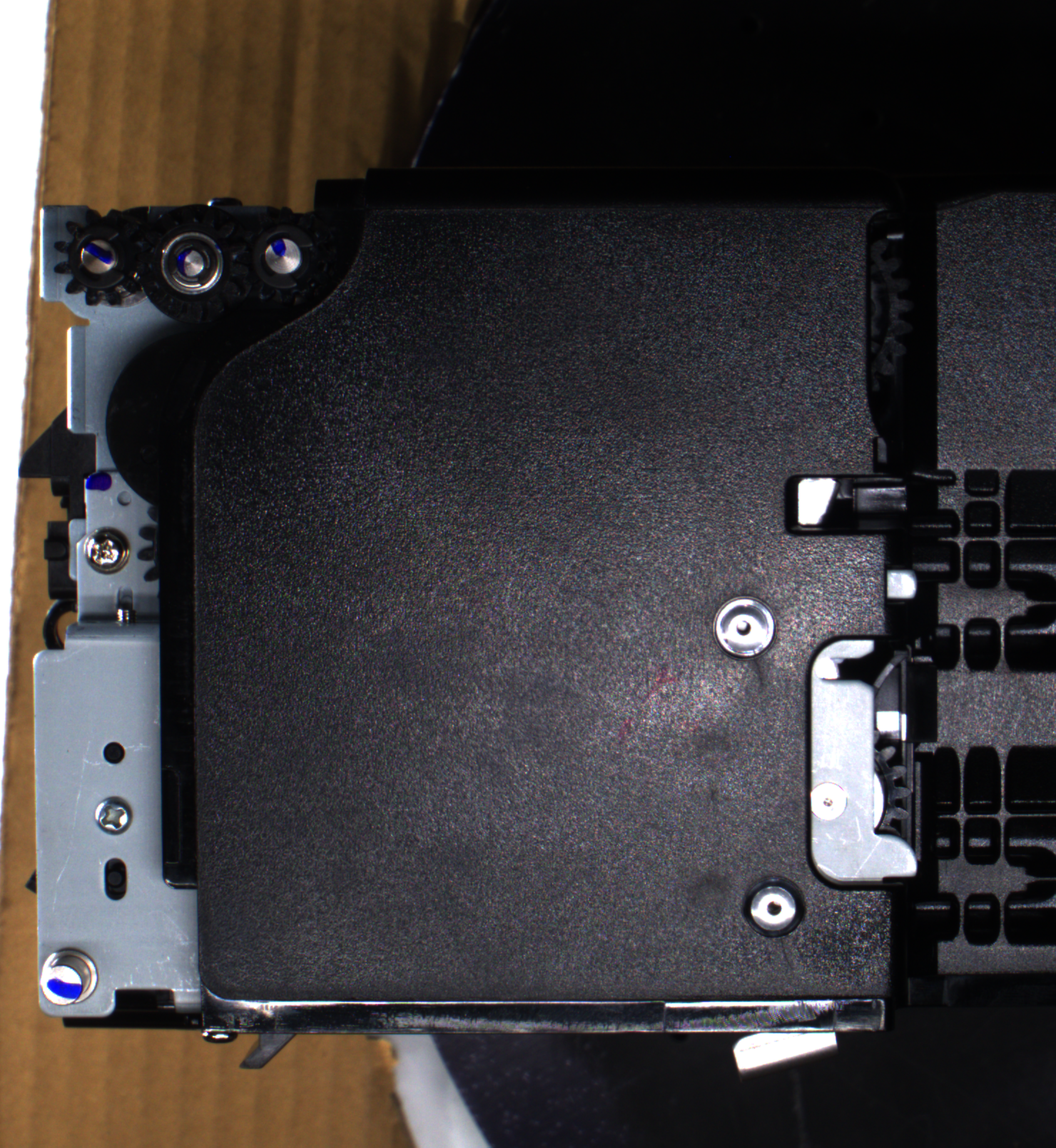centre_pin_presence: (725, 1014, 844, 1080)
centre_plate_presence: (798, 629, 928, 896)
centre_screw_presence: (708, 590, 781, 666), (737, 869, 810, 943)
gear1_presence: (50, 206, 152, 310)
gear2_presence: (136, 203, 249, 326)
gear3_presence: (233, 205, 333, 308)
side_screw_presence: (82, 525, 134, 575), (91, 795, 135, 837)
slanting_pin_presence: (35, 943, 106, 1014)
